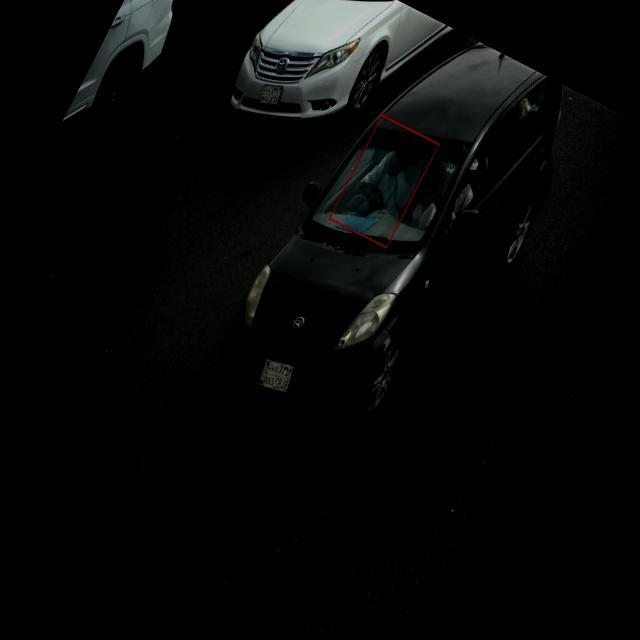windshield: (300, 117, 468, 258)
